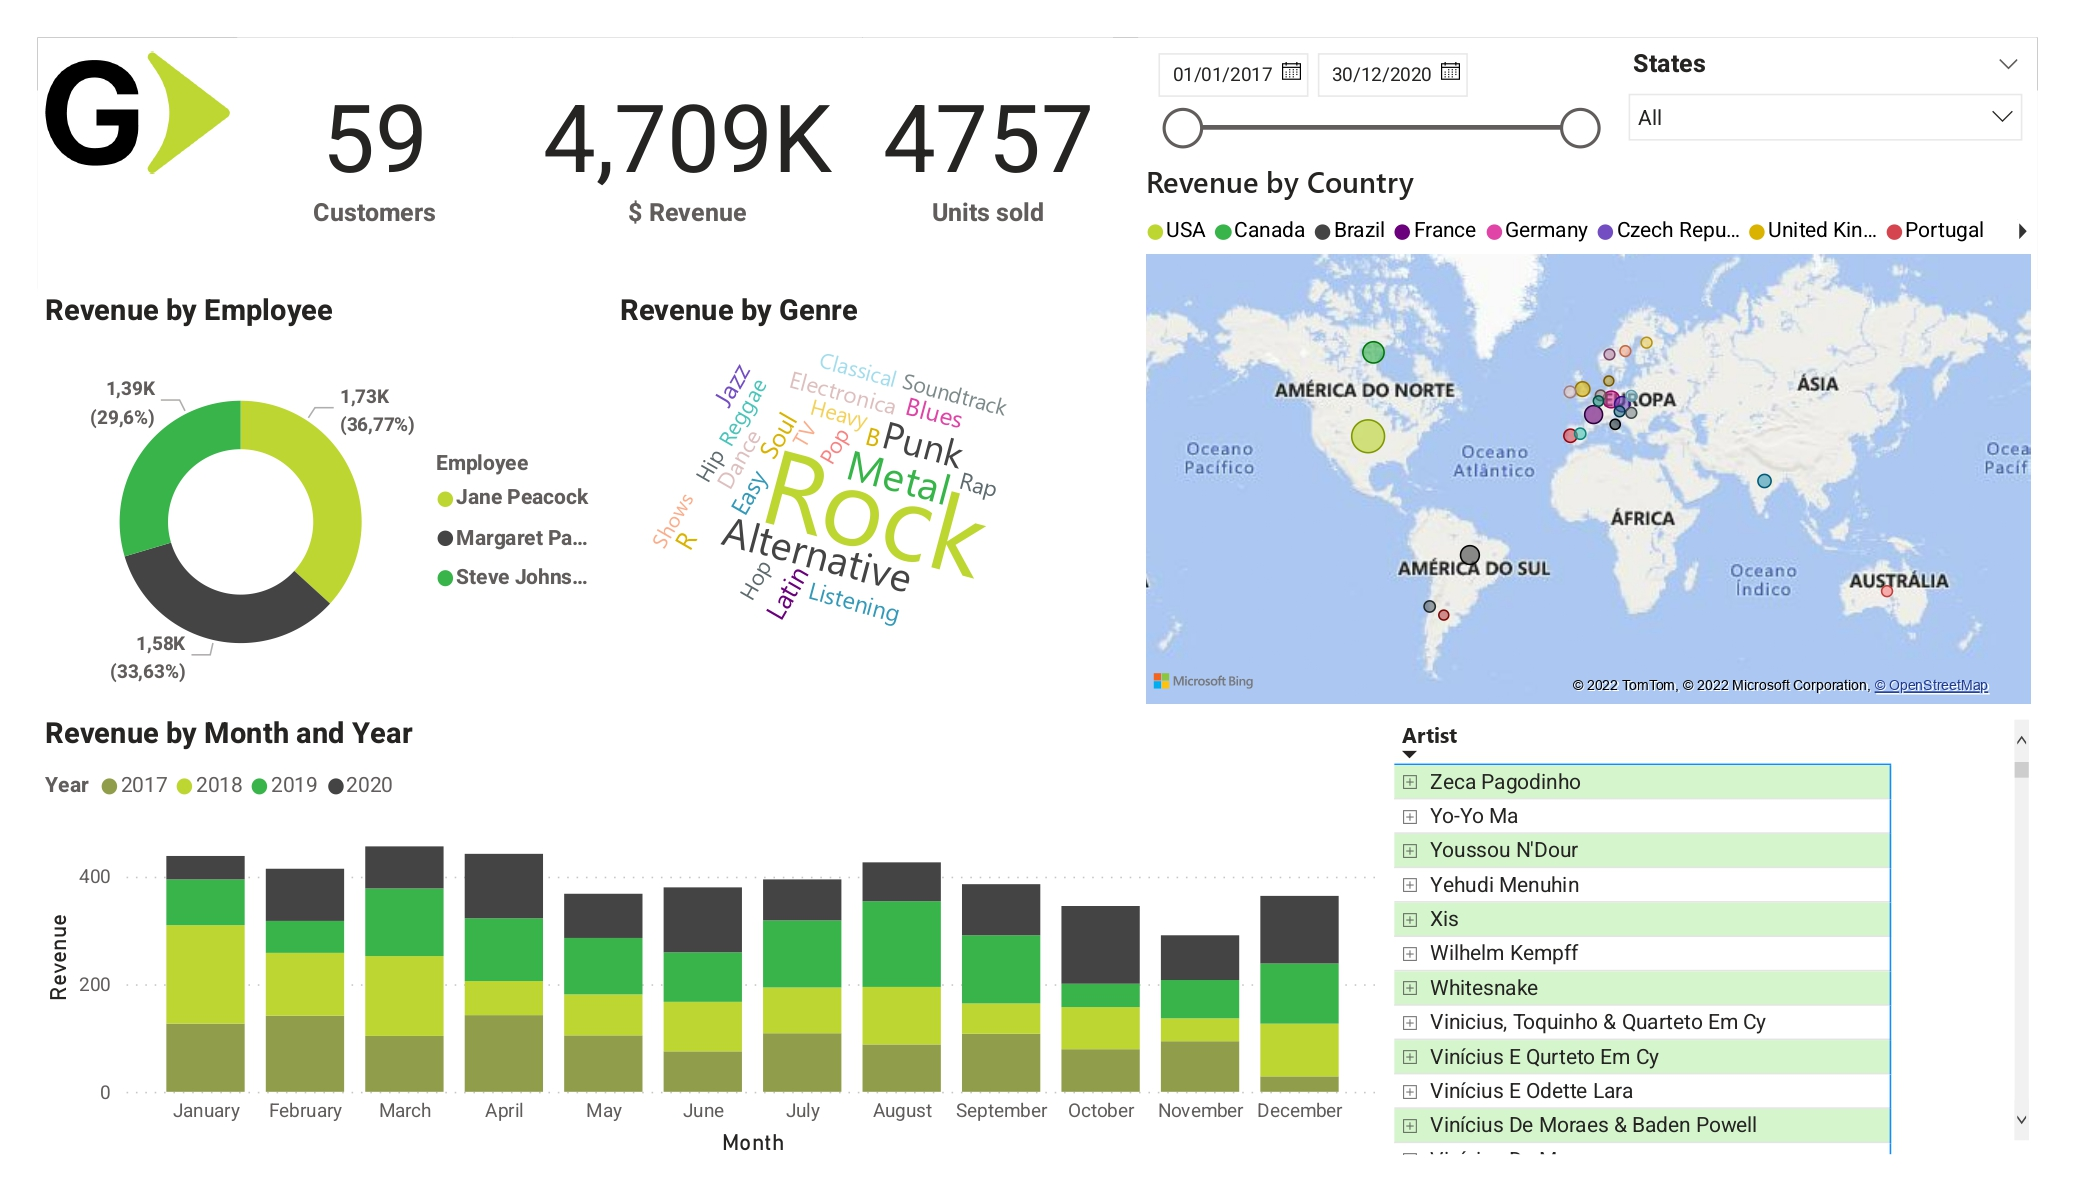

Layout of this report page (visuals, bound fields, positions):
{"tool":"powerbi","page":{"name":"Page 1","canvas":[1280,720],"ordinal":0},"visuals":[{"type":"donutChart","fields":{"Y":["dw_chinook fact_transaction.total"],"Category":["dw_chinook dim_employee.full_name"]},"box":[0,160,368,272],"z":0},{"type":"card","fields":{"Values":["dw_chinook fact_transaction.total"]},"box":[304,0,224,144],"z":2000},{"type":"card","fields":{"Values":["dw_chinook fact_transaction.quantity"]},"box":[528,0,160,144],"z":3000},{"type":"columnChart","fields":{"Y":["dw_chinook fact_transaction.total"],"Category":["dw_chinook dim_calendar.date.Variation.Date Hierarchy.Month"],"Series":["dw_chinook dim_calendar.date.Variation.Date Hierarchy.Year"]},"box":[0,432,864,288],"z":4000},{"type":"WordCloud1447959067750","fields":{"Values":["dw_chinook fact_transaction.total"],"Category":["dw_chinook dim_track.genre"]},"box":[368,160,336,272],"z":5000},{"type":"map","title":"Revenue by Country","fields":{"Category":["dw_chinook dim_customer.country"],"Size":["dw_chinook fact_transaction.total"],"Series":["dw_chinook dim_customer.country"]},"box":[704,80,576,352],"z":6000},{"type":"image","box":[0,0,128,96],"z":7000},{"type":"slicer","fields":{"Values":["dw_chinook dim_calendar.date"]},"box":[704,0,304,80],"z":8000},{"type":"slicer","fields":{"Values":["dw_chinook dim_customer.state"]},"box":[1008,0,272,80],"z":9000},{"type":"card","fields":{"Values":["dw_chinook fact_transaction.customer_id"]},"box":[128,0,176,144],"z":11000},{"type":"pivotTable","fields":{"Rows":["dw_chinook dim_track.artist","dw_chinook dim_track.track"]},"box":[864,432,416,288],"z":12000}]}

Visuals, with their boxes on the page's 1280x720 design canvas (x1, y1, x2, y2). These are canvas units, not pixel positions in the 2075x1200 screenshot, which may show the page scaled, cropped or inside an application window:
donutChart - dw_chinook fact_transaction.total x dw_chinook dim_employee.full_name: pyautogui.locateOnScreen(0, 160, 368, 432)
card - dw_chinook fact_transaction.total: pyautogui.locateOnScreen(304, 0, 528, 144)
card - dw_chinook fact_transaction.quantity: pyautogui.locateOnScreen(528, 0, 688, 144)
columnChart - dw_chinook fact_transaction.total x dw_chinook dim_calendar.date.Variation.Date Hierarchy.Month: pyautogui.locateOnScreen(0, 432, 864, 720)
WordCloud1447959067750 - dw_chinook fact_transaction.total x dw_chinook dim_track.genre: pyautogui.locateOnScreen(368, 160, 704, 432)
"Revenue by Country" map: pyautogui.locateOnScreen(704, 80, 1280, 432)
image: pyautogui.locateOnScreen(0, 0, 128, 96)
slicer - dw_chinook dim_calendar.date: pyautogui.locateOnScreen(704, 0, 1008, 80)
slicer - dw_chinook dim_customer.state: pyautogui.locateOnScreen(1008, 0, 1280, 80)
card - dw_chinook fact_transaction.customer_id: pyautogui.locateOnScreen(128, 0, 304, 144)
pivotTable - dw_chinook dim_track.artist x dw_chinook dim_track.track: pyautogui.locateOnScreen(864, 432, 1280, 720)
